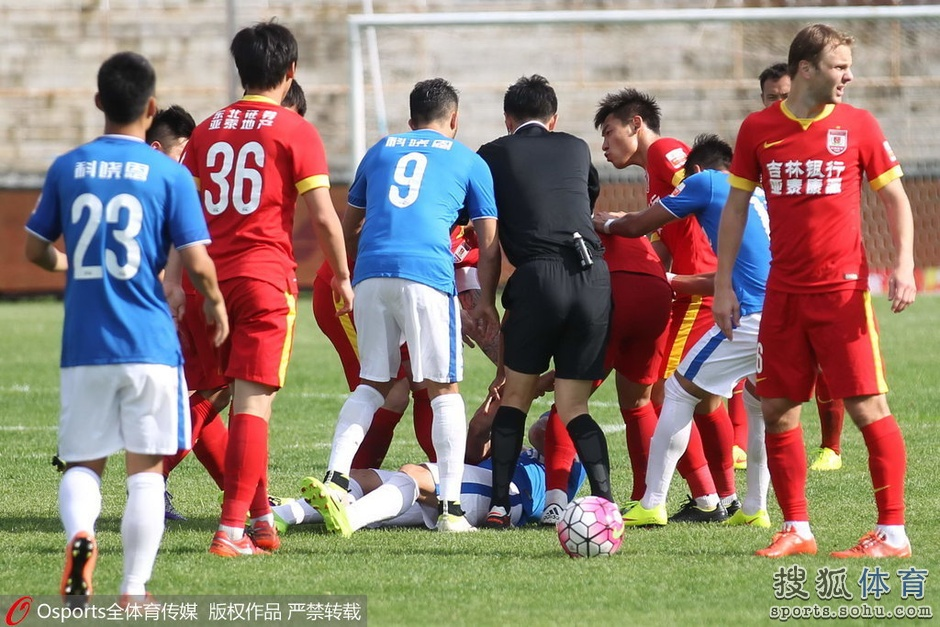falling: (275, 421, 582, 536)
